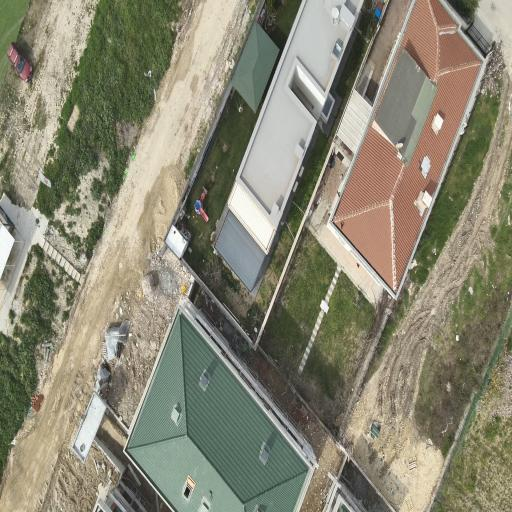car: (8, 43, 32, 82)
